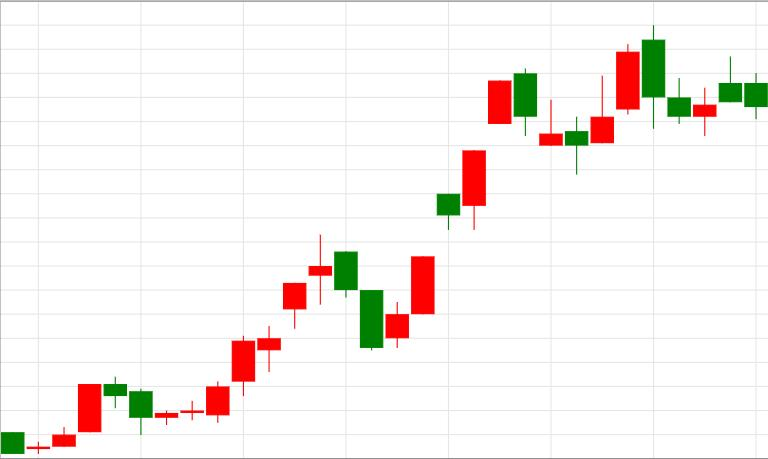bearish_engulfing_fall: (386, 68, 537, 348)
